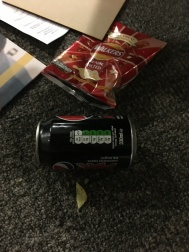can_black: (21, 106, 151, 176)
